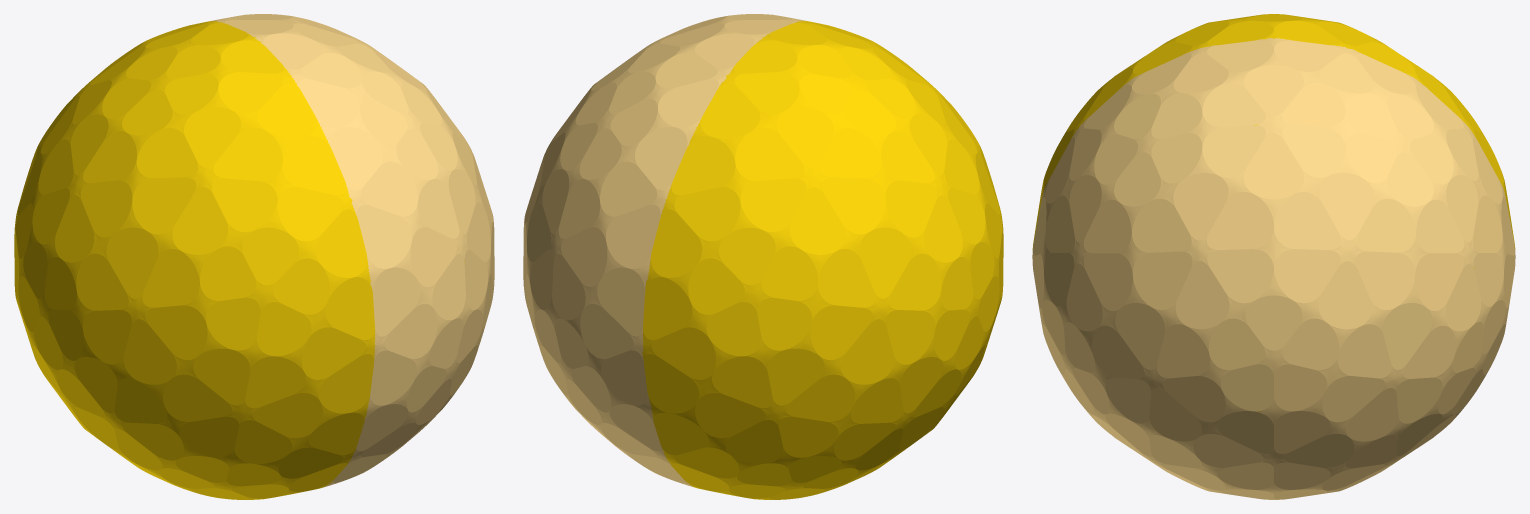
The model's file is ballGoldLeft.fbx.
3 renders of one model, left to right at view 1: azimuth 30°, elevation 25°; view 2: azimuth 150°, elevation 25°; view 3: azimuth 270°, elevation 25°, orthographic.
Visible parts, largest first — view 1: Icosphere; view 2: Icosphere; view 3: Icosphere.
Part boxes in pixels (bbox=[...]): Icosphere: bbox=[14, 14, 494, 499]; Icosphere: bbox=[523, 14, 1003, 499]; Icosphere: bbox=[1032, 14, 1515, 499].
Bounding box in the file's own units: 185 × 184 × 184.
